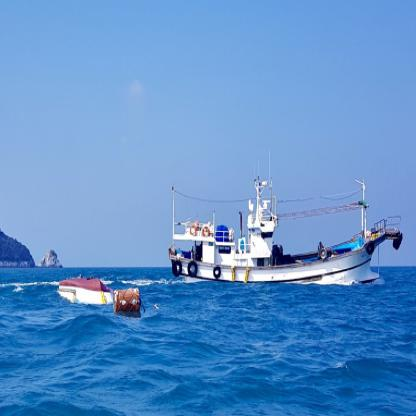fish-b: (168, 154, 408, 292)
